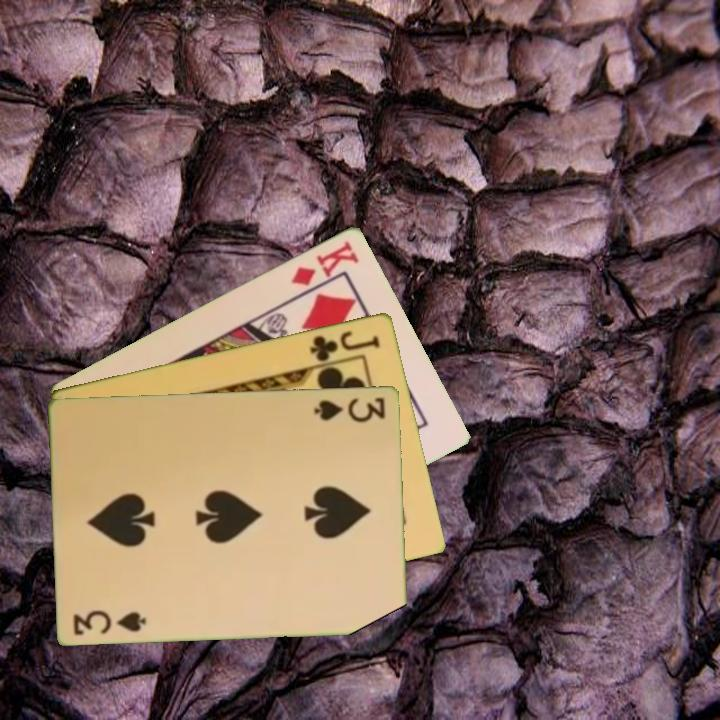3s: (70, 606, 150, 637), (311, 393, 389, 424)
Jc: (306, 327, 384, 364)
Kd: (287, 236, 362, 289)
